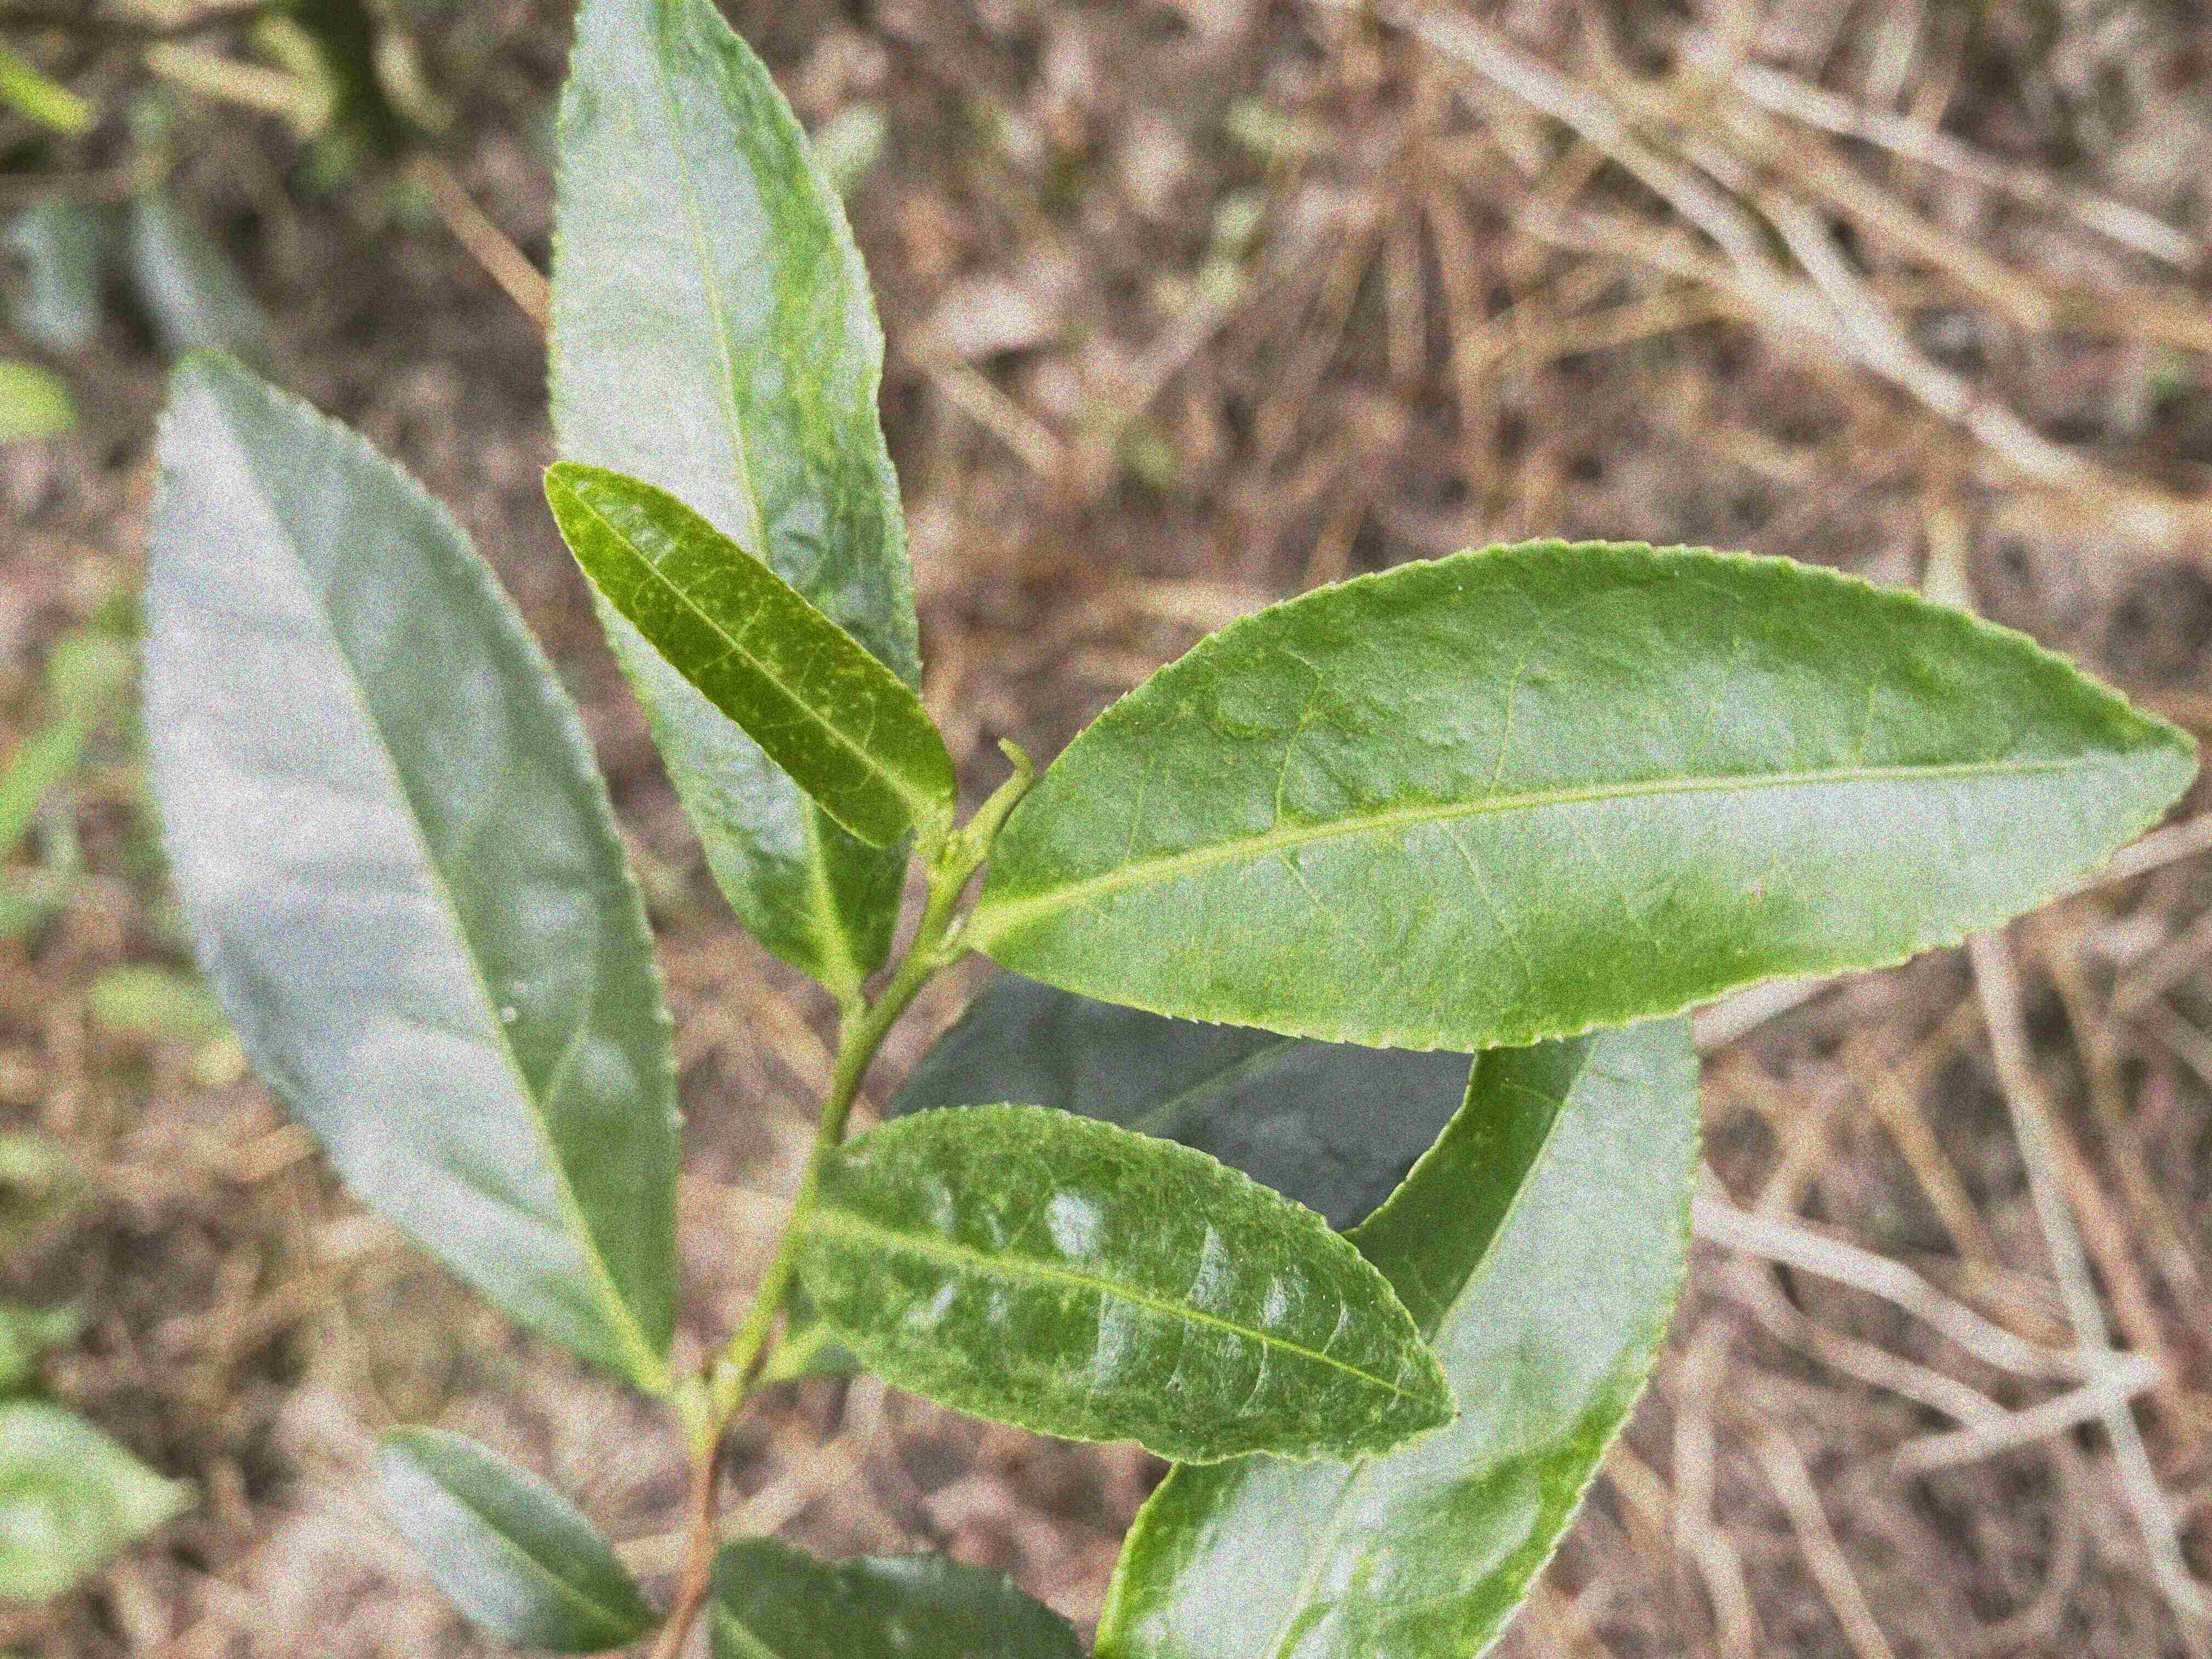healthy: (136, 347, 683, 1392), (1097, 1016, 1700, 1656), (543, 2, 925, 993), (798, 1098, 1460, 1464), (545, 460, 948, 856)
tanju_low: (965, 532, 2200, 1054)
